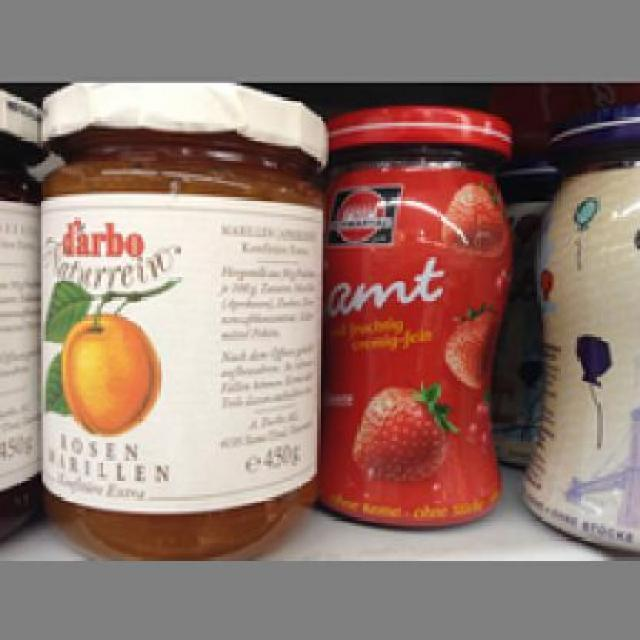Jam: (34, 80, 323, 557), (319, 102, 512, 528), (522, 106, 638, 552)
